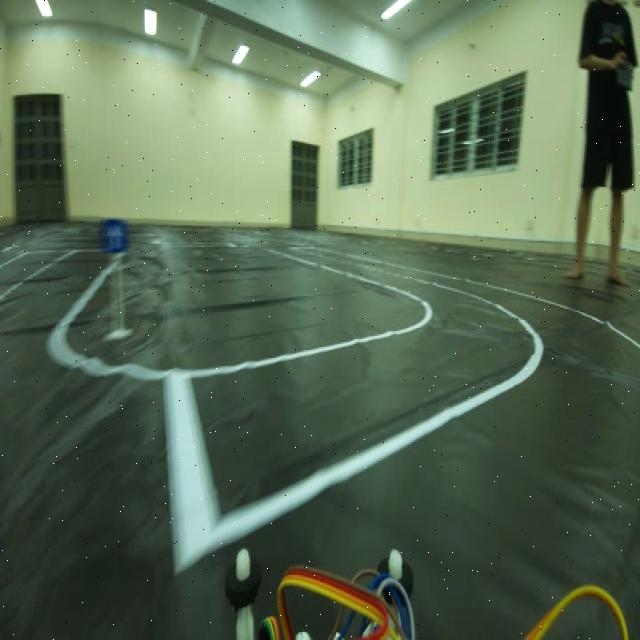onewayroad: (93, 209, 127, 260)
